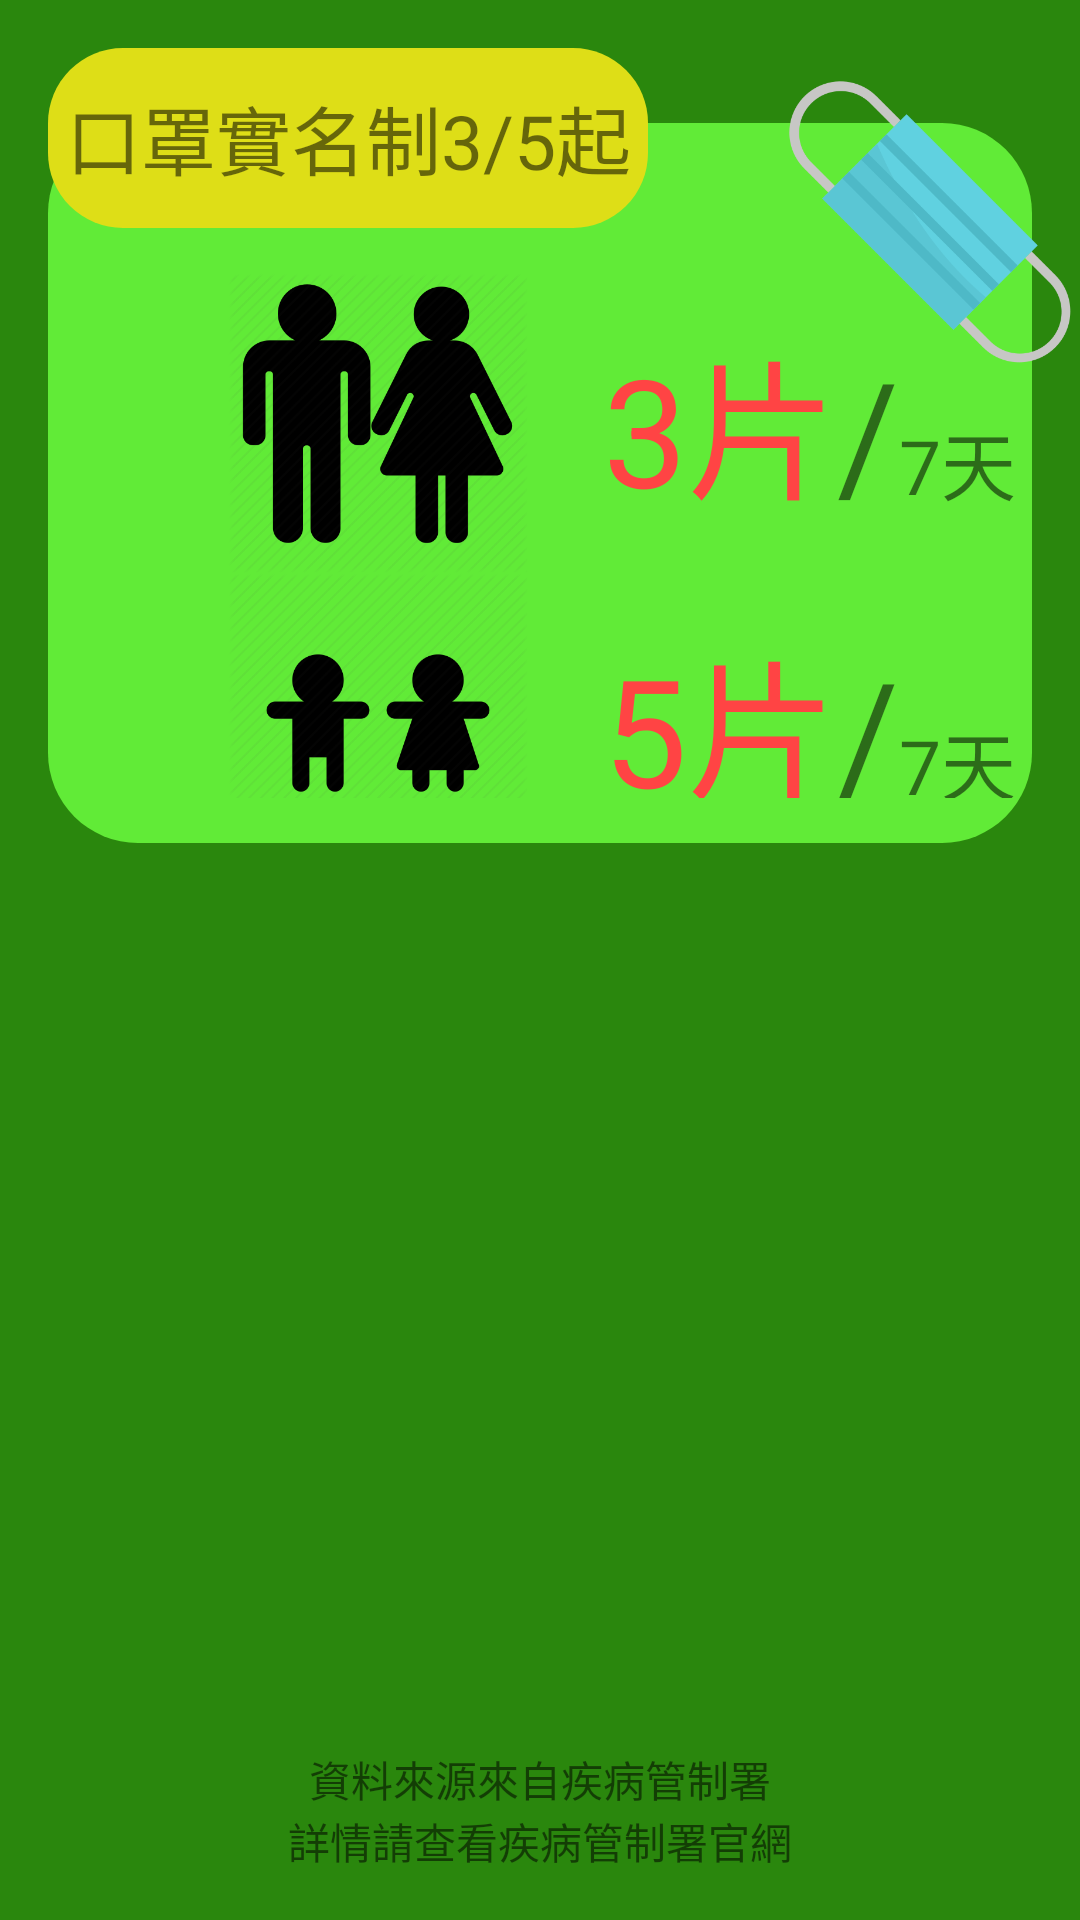

Locate icon controls on the screen. Image size 1080w x 1920h, boxes as (x1, y1, x2, y2).
boy girl: (266, 654, 490, 792)
man woman: (242, 284, 512, 543)
